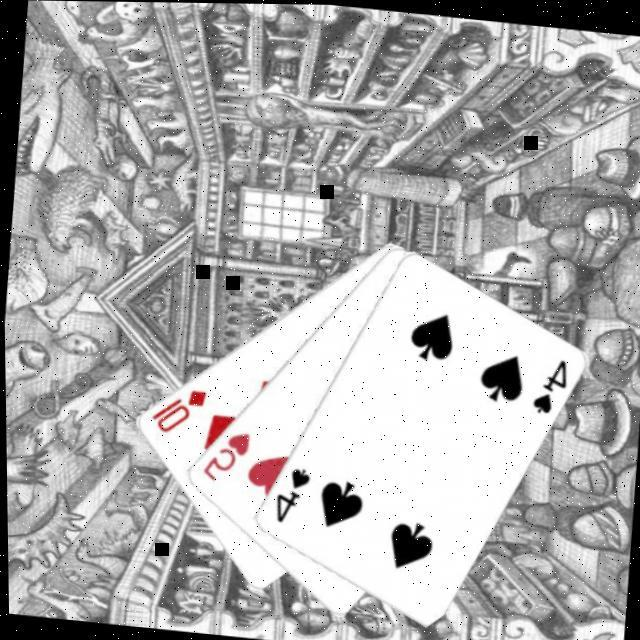10D: (142, 379, 207, 437)
4S: (266, 461, 310, 527), (524, 351, 568, 416)
5H: (193, 422, 250, 486)
